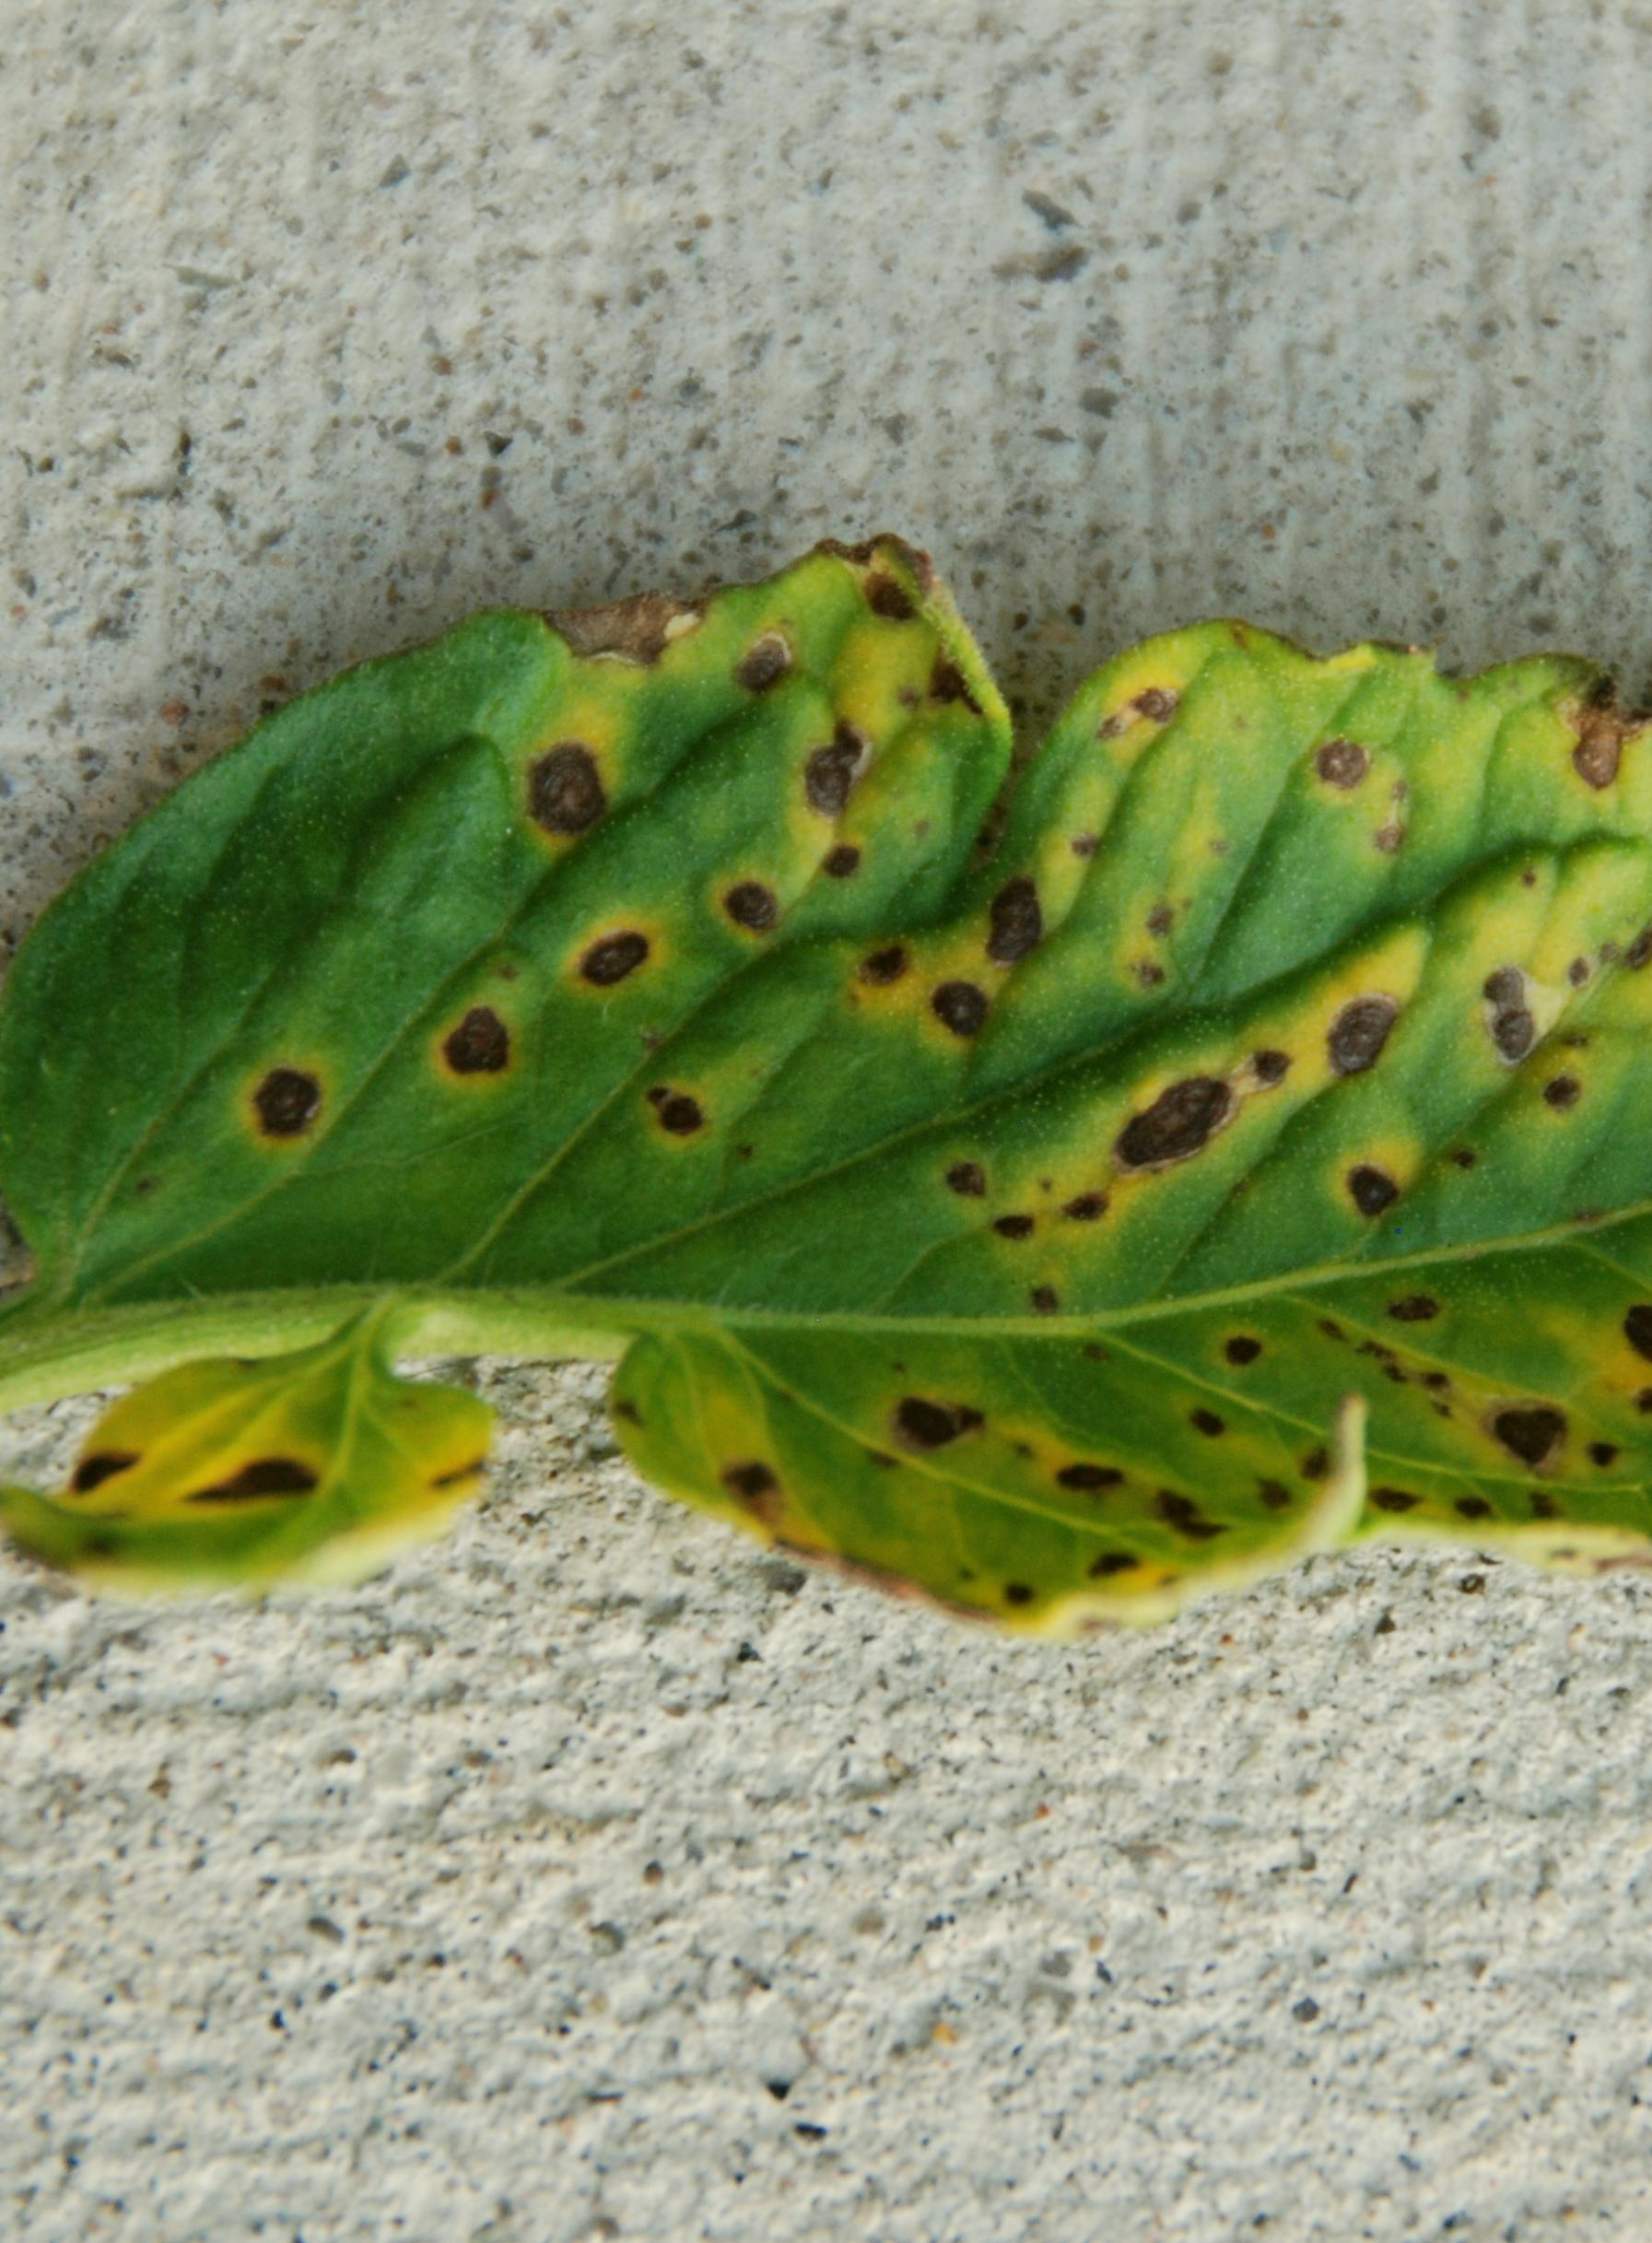Tomato Early blight leaf: (0, 556, 1652, 1653)
